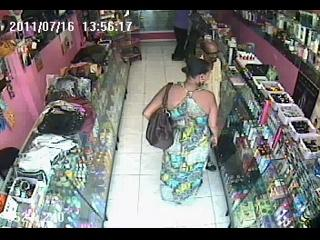Normal: (142, 57, 219, 204), (145, 82, 174, 150), (172, 10, 192, 61)
